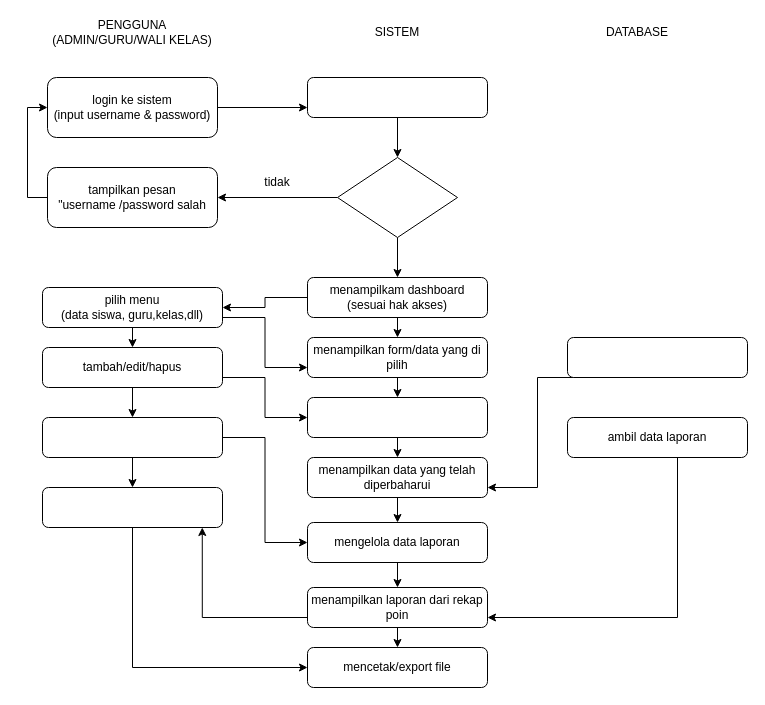
Image size: 765x705. Some labels were removed from this diagram. Here are the shapes that lost their labels. From the top down, the centre of each, then its label:
At point 397,97: "validasi username dan password".
At point 397,197: "login valid?".
At point 657,357: "simpan/update/hapus".
At point 132,437: "melihat laporan".
At point 397,417: "Memproses data".
At point 132,507: "cetak/export".
